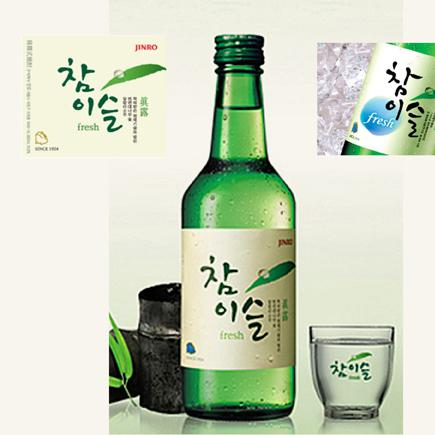soju: (176, 33, 298, 422)
